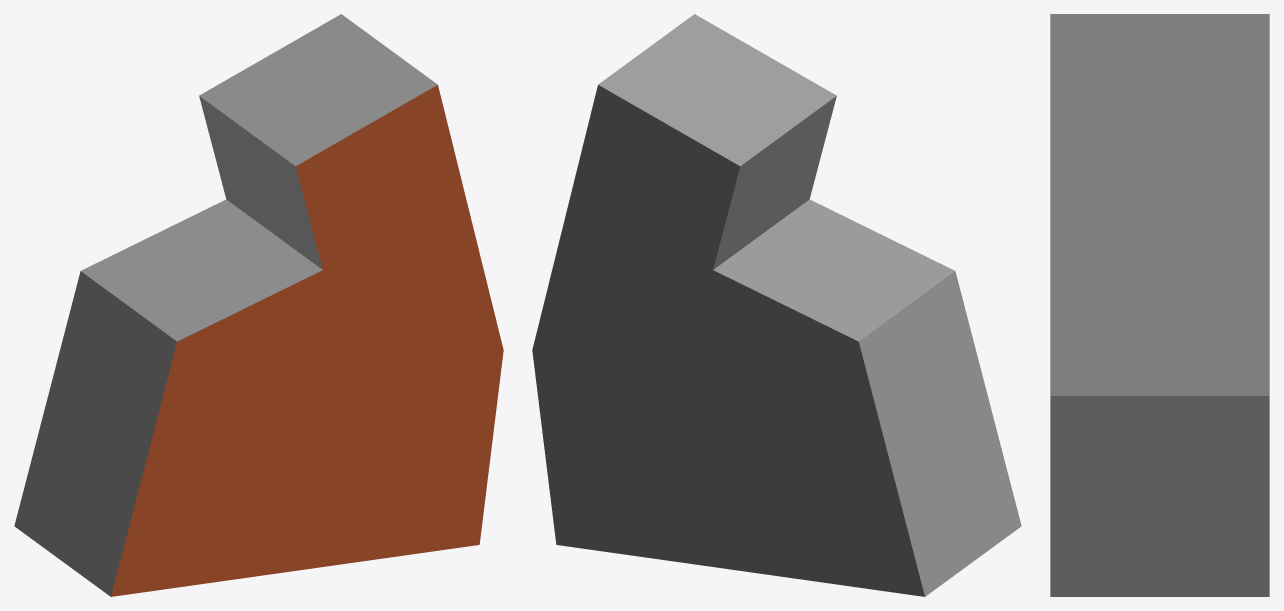
File: construction_0791_assumed_A_Casa_h6m.obj
The picture shows the model from 3 angles, left to right: view 1: azimuth 30°, elevation 25°; view 2: azimuth 150°, elevation 25°; view 3: azimuth 270°, elevation 25°; orthographic projection. The views are drawn at different scales.
Visible parts, largest first — view 1: construction_0791_assumed_A_Casa; view 2: construction_0791_assumed_A_Casa; view 3: construction_0791_assumed_A_Casa.
Part boxes in pixels (left/top/right/bottom): construction_0791_assumed_A_Casa: left=14, top=14, right=503, bottom=596; construction_0791_assumed_A_Casa: left=532, top=14, right=1021, bottom=596; construction_0791_assumed_A_Casa: left=1050, top=14, right=1269, bottom=596.
Size of the model in its own units: 14.08 by 16.12 by 6.
